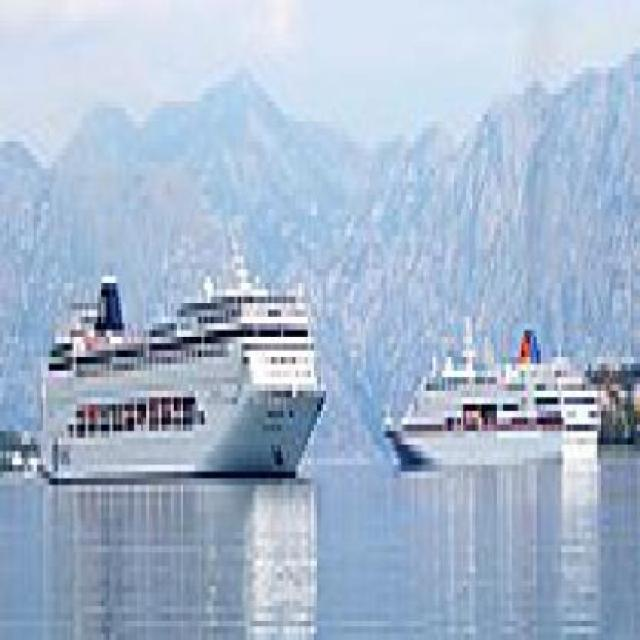cruise: (26, 231, 330, 480), (379, 284, 617, 493)
